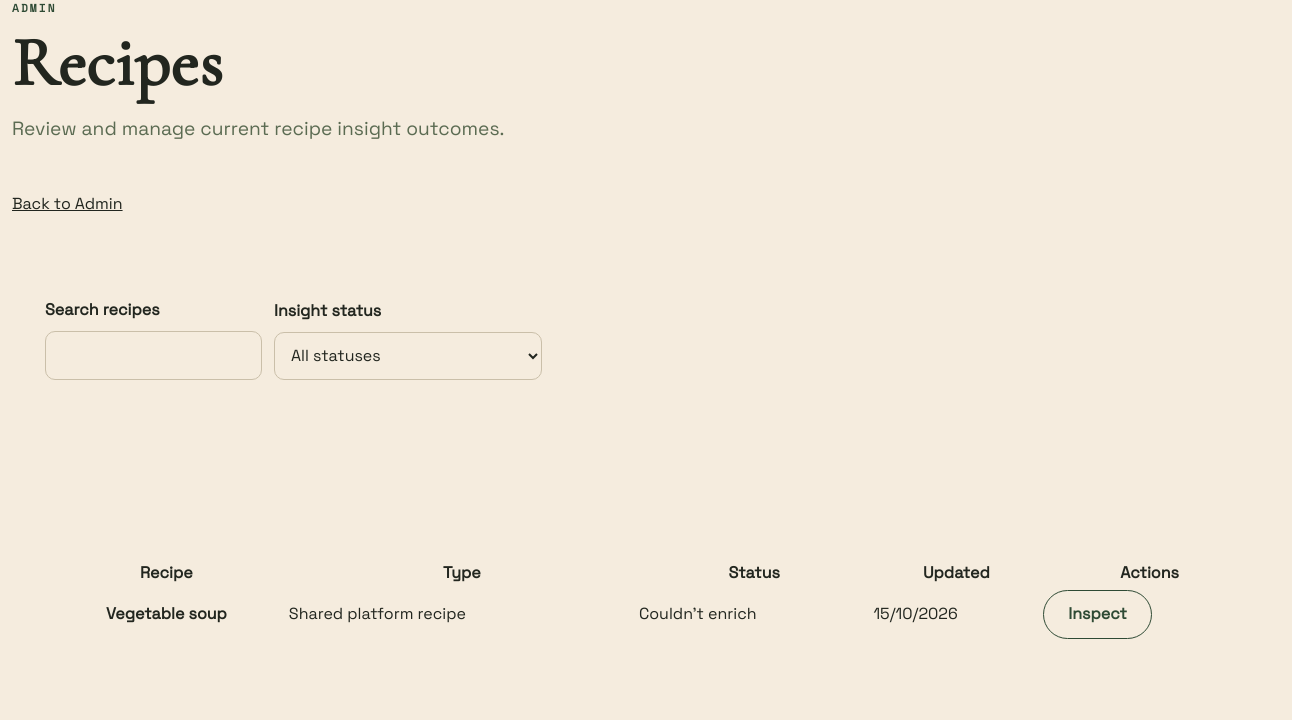
Test case: one selected recipe repair › blocks another attempt when cost is missing
What coordinates should you click on to do the following:
click the button with aria-label "Inspect Vegetable soup"
I would click on:
 (1097, 614)
Its box is [1043,590,1152,639].
(page scrolled)
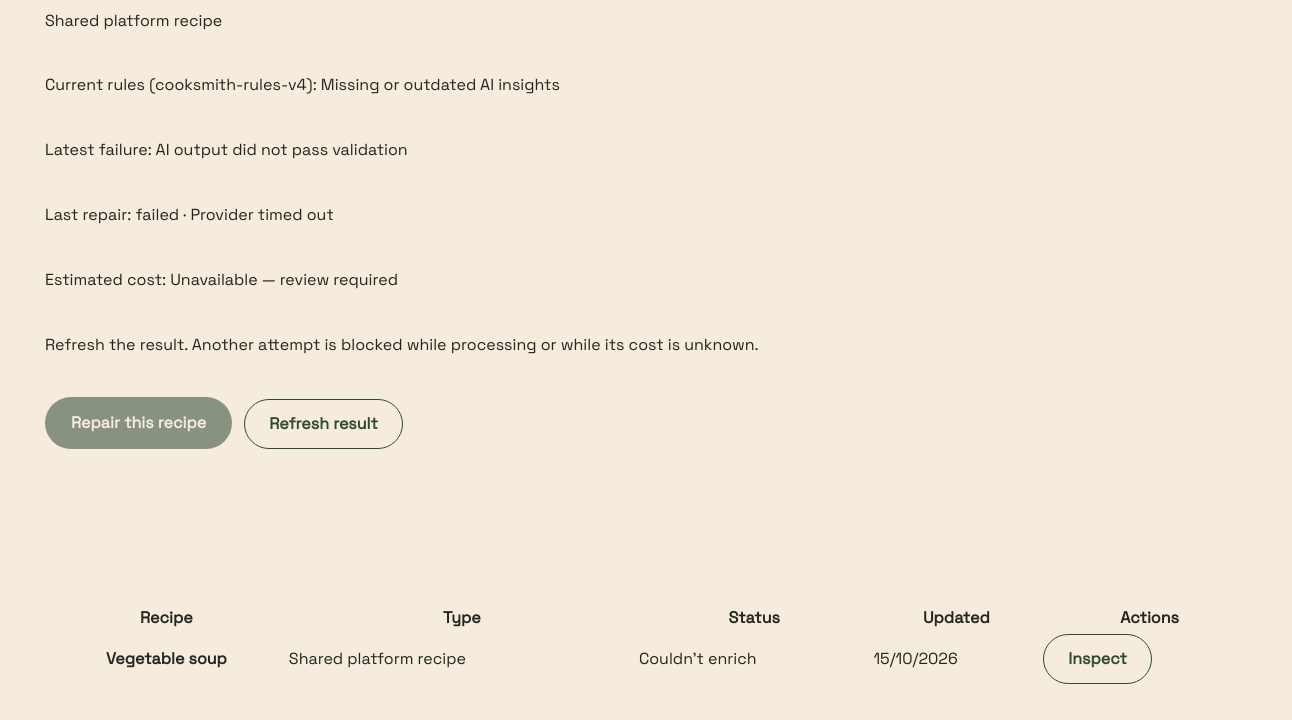
Now the text "Estimated cost: Unavailable — review required" is shown, box [45,269,398,290]
Now the button "Repair this recipe" is disabled, box [45,397,232,449]
